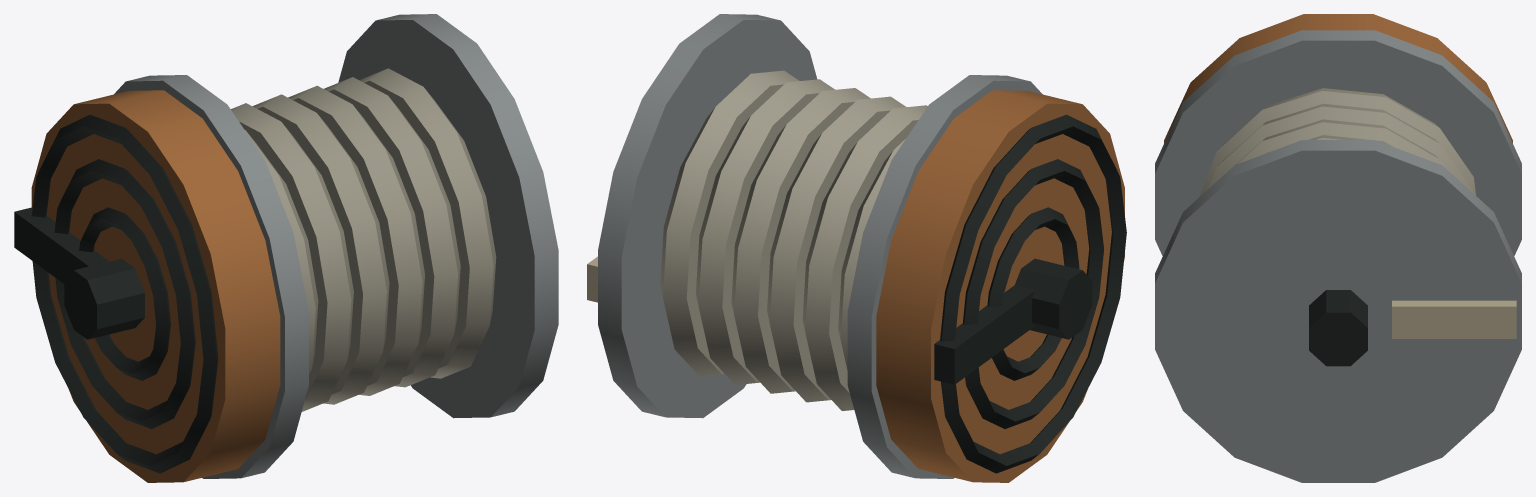
The model's file is grapple_kest_drive.glb.
The picture shows the model from 3 angles, left to right: view 1: azimuth 30°, elevation 25°; view 2: azimuth 150°, elevation 25°; view 3: azimuth 270°, elevation 25°; orthographic projection. The views are drawn at different scales.
Visible parts, largest first — view 1: Drive; view 2: Drive; view 3: Drive.
Part boxes in pixels (left/top/right/bottom): Drive: left=14, top=14, right=558, bottom=482; Drive: left=587, top=14, right=1126, bottom=482; Drive: left=1155, top=14, right=1521, bottom=482.
Bounding box in the file's own units: 0.25 × 0.206 × 0.206.
